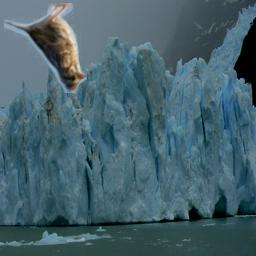Sparrow: (4, 3, 87, 93)
